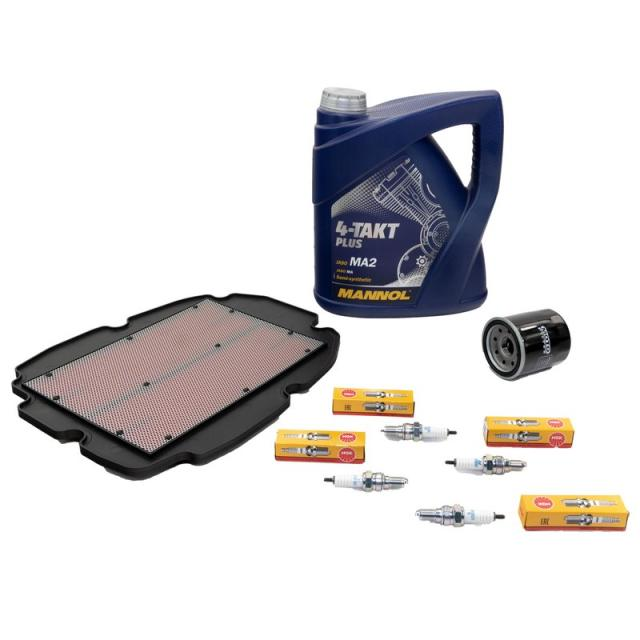air_filter: (6, 268, 354, 499)
motor_oil: (309, 76, 507, 318)
oil_filter: (476, 299, 582, 386)
